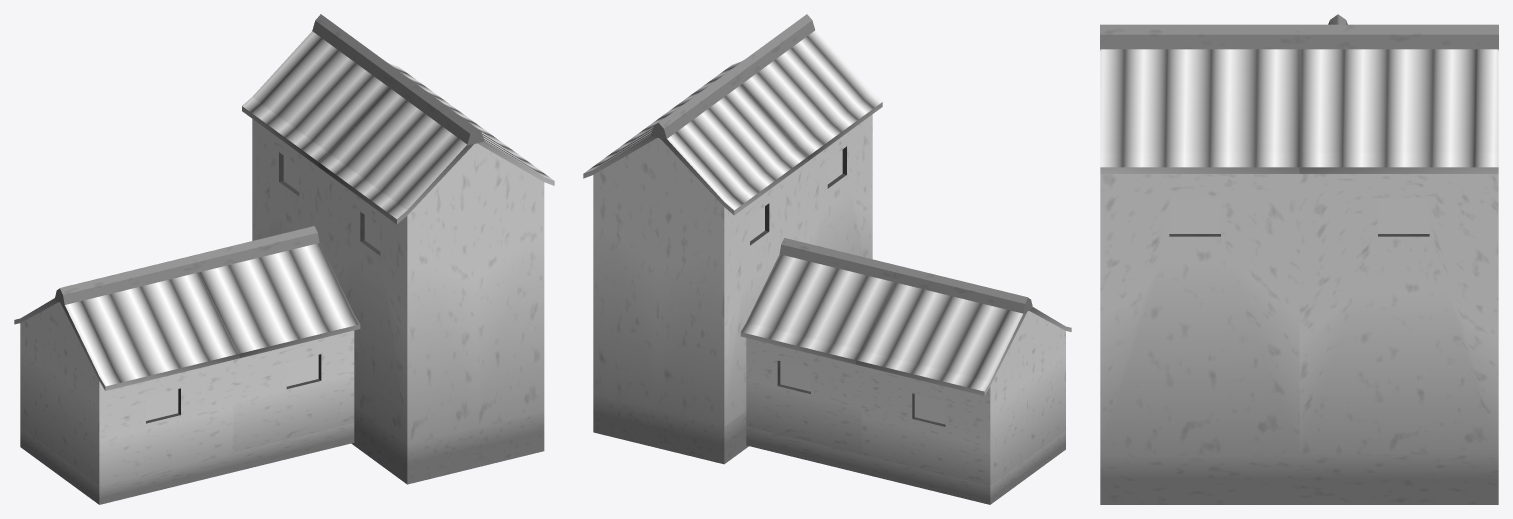
The model's file is WesternHouseE.fbx.
3 views of the same model, side by side, from view 1: azimuth 30°, elevation 25°; view 2: azimuth 150°, elevation 25°; view 3: azimuth 270°, elevation 25° (orthographic). The views are drawn at different scales.
Parts seen in each view (by area): view 1: HouseE; view 2: HouseE; view 3: HouseE.
Boxes of the visible parts, x1,y1,x2,y2 form: HouseE: (14, 14, 554, 504); HouseE: (583, 14, 1071, 504); HouseE: (1100, 14, 1498, 504).
Size of the model in its own units: 1898 by 1534 by 1268.
